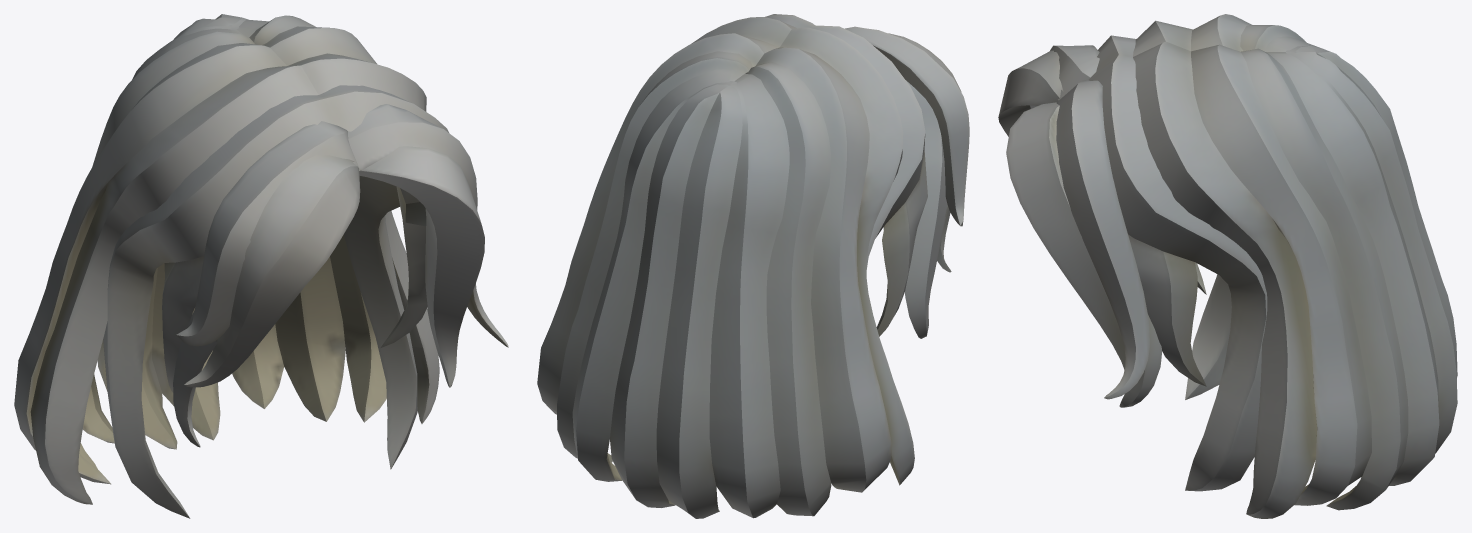
Rendered from hair_long.glb.
The picture shows the model from 3 angles, left to right: view 1: azimuth 30°, elevation 25°; view 2: azimuth 150°, elevation 25°; view 3: azimuth 270°, elevation 25°; orthographic projection. The views are drawn at different scales.
Visible parts, largest first — view 1: Hair_Long; view 2: Hair_Long; view 3: Hair_Long.
Part boxes in pixels (box(x1,y1,x2,y2)): Hair_Long: box(14, 14, 508, 518); Hair_Long: box(537, 14, 969, 518); Hair_Long: box(998, 14, 1457, 518).
Size of the model in its own units: 0.2447 by 0.278 by 0.2677.
Materials: 1 (1 with a texture image).
